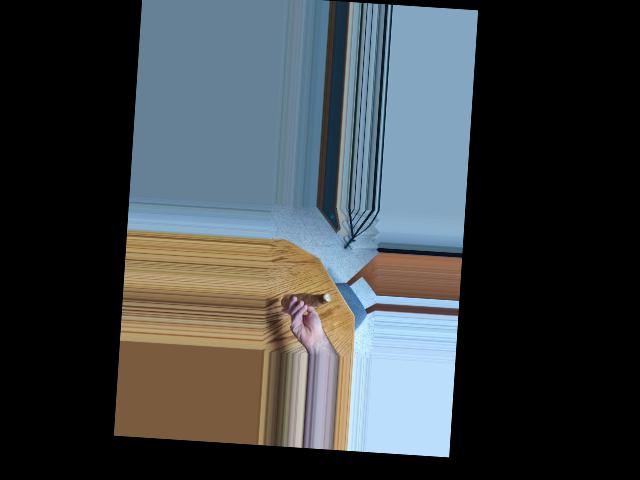sweet_potato: (280, 291, 335, 309)
